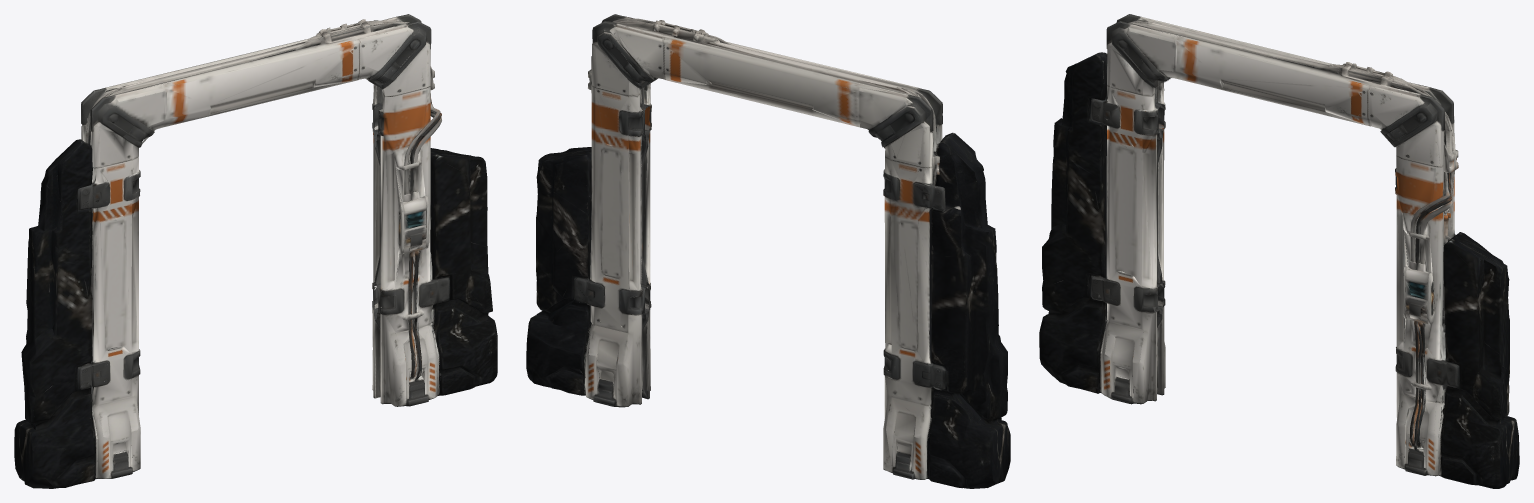
File: door_frame.gltf
3 renders of one model, left to right at view 1: azimuth 30°, elevation 25°; view 2: azimuth 150°, elevation 25°; view 3: azimuth 330°, elevation 25°, orthographic.
Parts seen in each view (by area): view 1: LeftPost, RightPost, Lintel; view 2: LeftPost, RightPost, Lintel; view 3: LeftPost, RightPost, Lintel.
Part boxes in pixels (x1,y1,x2,y2): LeftPost: (14, 137, 148, 488); RightPost: (371, 64, 497, 406); Lintel: (64, 14, 431, 157); LeftPost: (880, 140, 1010, 488); RightPost: (526, 64, 652, 407); Lintel: (591, 14, 969, 151); LeftPost: (1039, 59, 1165, 404); RightPost: (1383, 135, 1519, 488); Lintel: (1080, 14, 1454, 149).
Bounding box in the file's own units: 3.89 × 3.06 × 0.4.
Materials: 1 (1 with a texture image).
